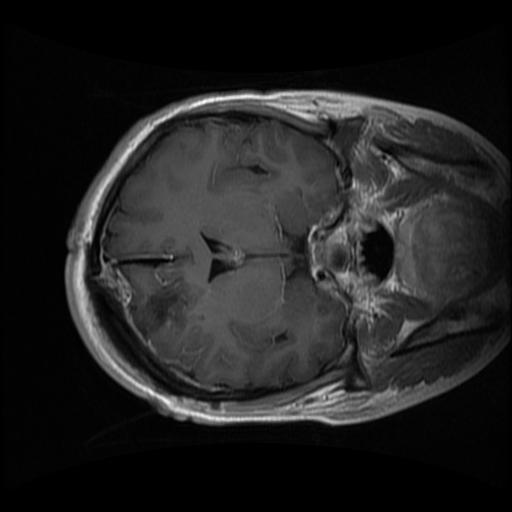glioma: (127, 261, 192, 342)
